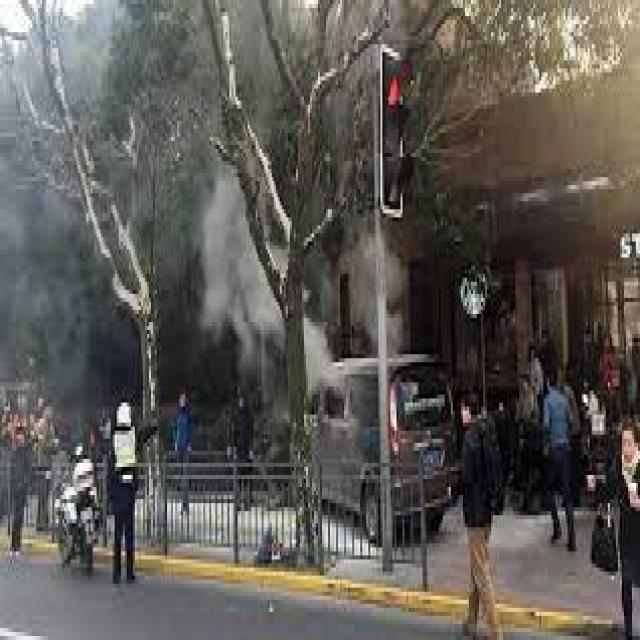smoke: (2, 161, 83, 398), (197, 173, 288, 370), (302, 314, 342, 398)
